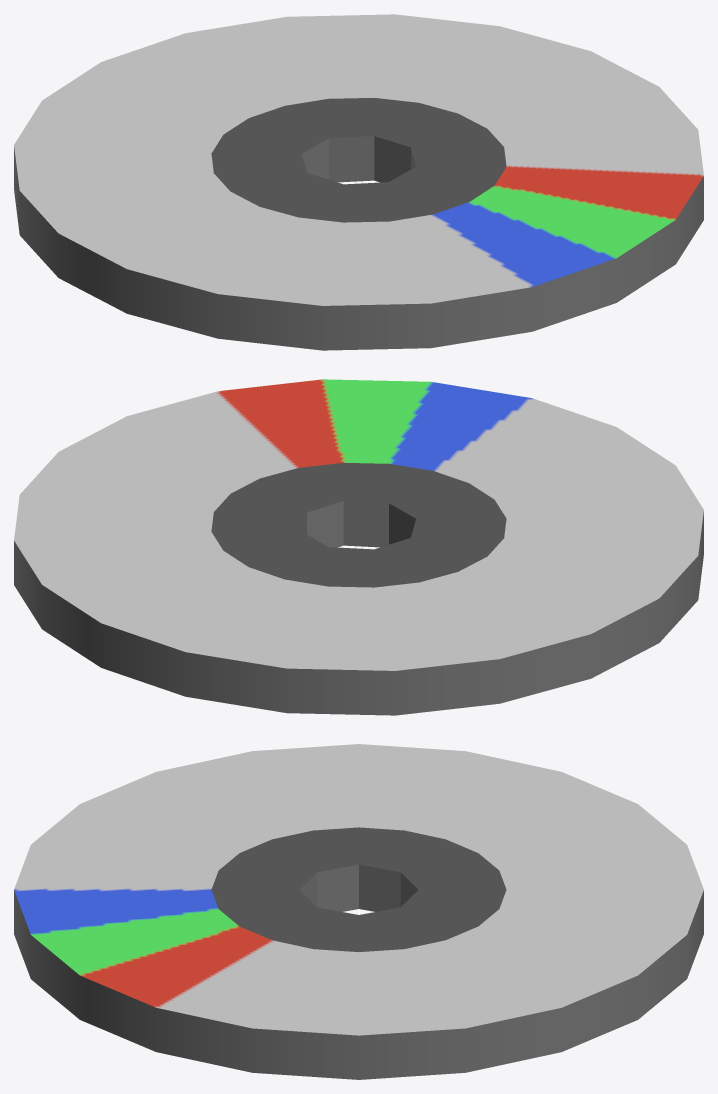
File: Disk.fbx
The picture shows the model from 3 angles, top to bottom: view 1: azimuth 30°, elevation 25°; view 2: azimuth 150°, elevation 25°; view 3: azimuth 270°, elevation 25°; orthographic projection.
Parts seen in each view (by area): view 1: Disk; view 2: Disk; view 3: Disk.
Boxes of the visible parts, x1=… form: Disk: x1=14, y1=14, x2=703, y2=350; Disk: x1=14, y1=379, x2=703, y2=715; Disk: x1=14, y1=744, x2=703, y2=1079.
Size of the model in its own units: 176 by 12.51 by 176.
